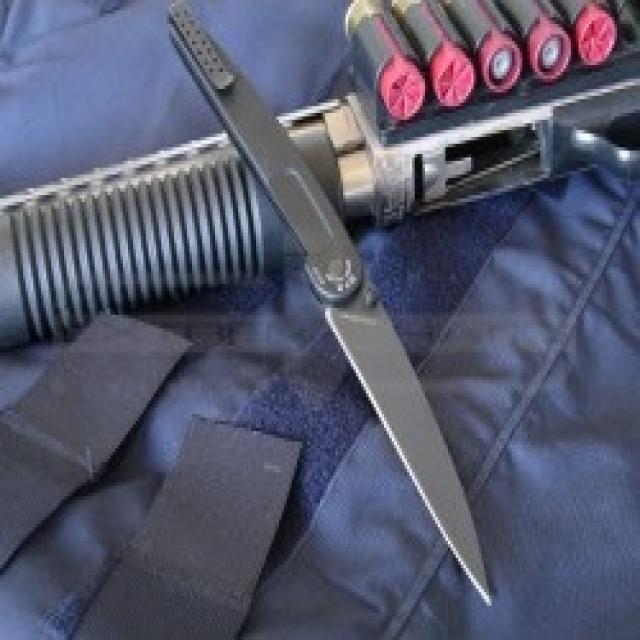knife: (166, 1, 497, 612)
